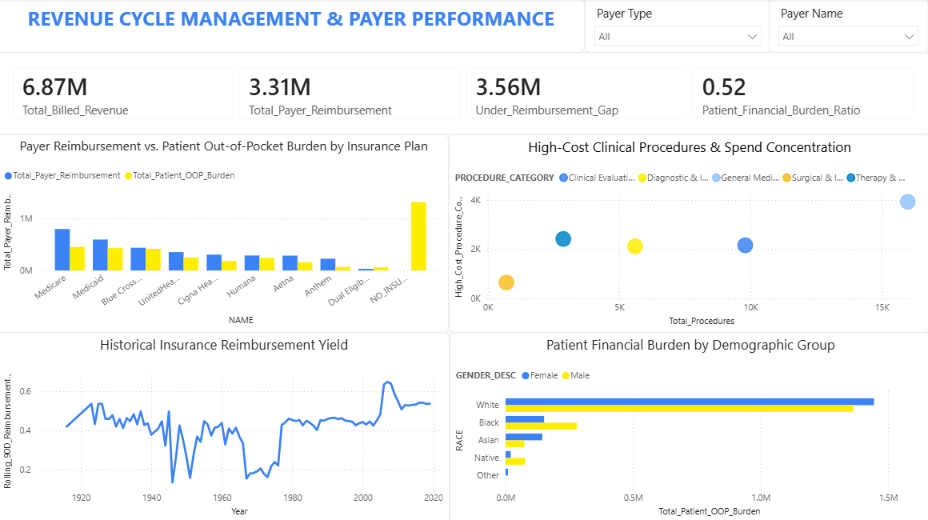

The page's visual inventory and layout, read from the dashboard file:
{"tool":"powerbi","page":{"name":"Revenue Cycle & Payers (RCM)","canvas":[1280,720],"ordinal":3},"visuals":[{"type":"cardVisual","fields":{"Data":["_Measures.Total_Billed_Revenue","_Measures.Total_Payer_Reimbursement","_Measures.Under_Reimbursement_Gap","_Measures.Patient_Financial_Burden_Ratio"]},"box":[0,74.1,1278.9,112.5],"z":0},{"type":"clusteredColumnChart","title":"Payer Reimbursement vs. Patient Out-of-Pocket Burden by Insurance Plan","fields":{"Category":["Dim_Payers.NAME"],"Y":["_Measures.Total_Payer_Reimbursement","_Measures.Total_Patient_OOP_Burden"]},"box":[0,186.6,618.9,271.7],"z":1000},{"type":"scatterChart","title":"High-Cost Clinical Procedures & Spend Concentration","fields":{"Category":["Fact_Procedures.PROCEDURE_CATEGORY"],"Series":["Fact_Procedures.PROCEDURE_CATEGORY"],"Size":["_Measures.Average_Procedure_Cost"],"X":["_Measures.Total_Procedures"],"Y":["_Measures.High_Cost_Procedure_Count"]},"box":[618.9,186.6,660,272],"z":2000},{"type":"clusteredBarChart","title":"Patient Financial Burden by Demographic Group","fields":{"Category":["Dim_Patients.RACE"],"Series":["Dim_Patients.GENDER_DESC"],"Y":["_Measures.Total_Patient_OOP_Burden"]},"box":[620,458,660,262],"z":3000},{"type":"lineChart","title":"Historical Insurance Reimbursement Yield","fields":{"Category":["Dim_Date.Year"],"Y":["_Measures.Rolling_90D_Reimbursement_Rate"]},"box":[0,458,620,262],"z":4000},{"type":"slicer","fields":{"Values":["Dim_Payers.PAYER_TYPE"]},"box":[805.5,0,256.6,74.1],"z":5000},{"type":"slicer","fields":{"Values":["Dim_Payers.NAME"]},"box":[1058,0,219.6,74.1],"z":6000},{"type":"textbox","box":[0,0,805.5,74.1],"z":7000}]}

Visuals, with their boxes in screenshot pixels (x1, y1, x2, y2), scaled from the page's 1280x720 canvas onto the 928x520 screenshot:
cardVisual - _Measures.Total_Billed_Revenue x _Measures.Total_Payer_Reimbursement: [x1=0, y1=54, x2=927, y2=135]
"Payer Reimbursement vs. Patient Out-of-Pocket Burden by Insurance Plan" clusteredColumnChart: [x1=0, y1=135, x2=449, y2=331]
"High-Cost Clinical Procedures & Spend Concentration" scatterChart: [x1=449, y1=135, x2=927, y2=331]
"Patient Financial Burden by Demographic Group" clusteredBarChart: [x1=450, y1=331, x2=927, y2=519]
"Historical Insurance Reimbursement Yield" lineChart: [x1=0, y1=331, x2=450, y2=519]
slicer - Dim_Payers.PAYER_TYPE: [x1=584, y1=0, x2=770, y2=54]
slicer - Dim_Payers.NAME: [x1=767, y1=0, x2=926, y2=54]
textbox: [x1=0, y1=0, x2=584, y2=54]
